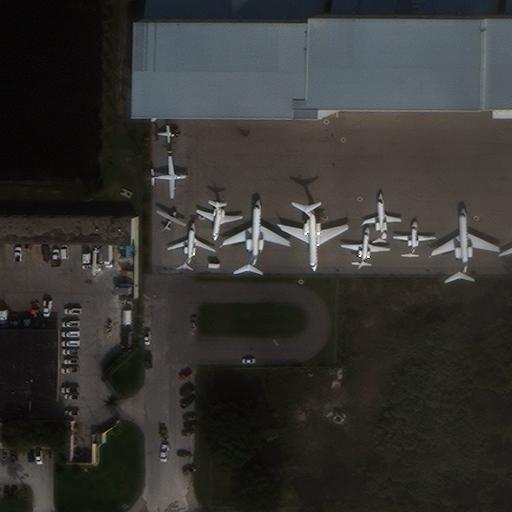Medium Civil Transport: (431, 207, 500, 281), (221, 199, 290, 272), (280, 203, 348, 271), (167, 221, 215, 270), (341, 226, 390, 269), (195, 200, 242, 241), (149, 156, 189, 199)
Small Civil Transport: (360, 191, 401, 243), (393, 221, 437, 259), (157, 209, 186, 232), (154, 124, 178, 143)
